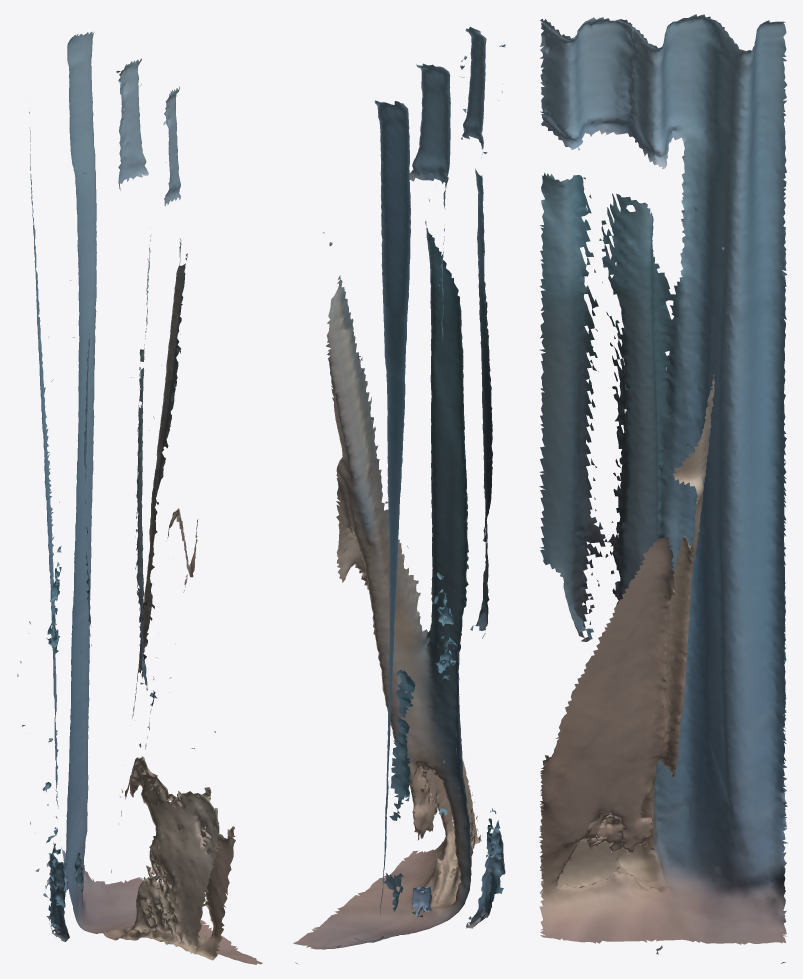
The model's file is apartment-full-12-0bea07a57f5a.glb.
3 views of the same model, side by side, from view 1: azimuth 30°, elevation 25°; view 2: azimuth 150°, elevation 25°; view 3: azimuth 270°, elevation 25° (orthographic). The views are drawn at different scales.
Bounding box in the file's own units: 0.349 × 1.91 × 0.48.
